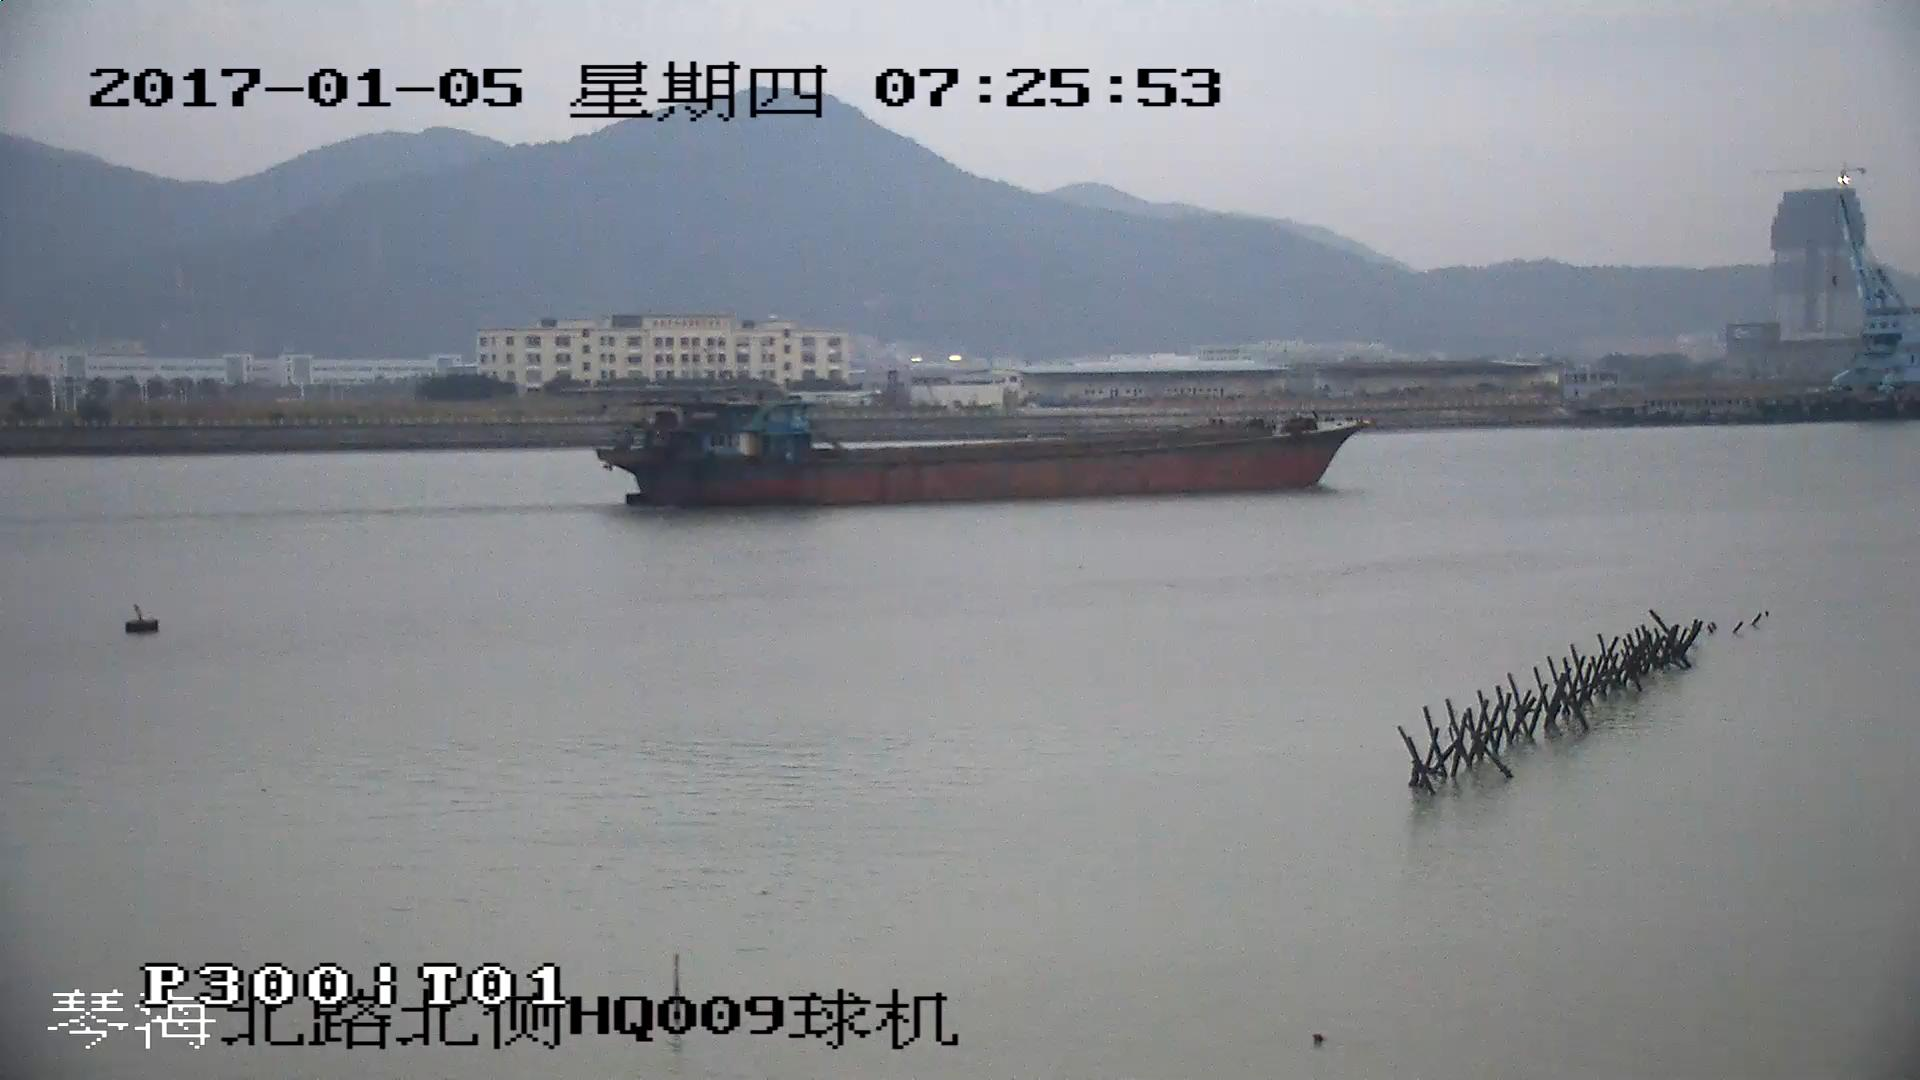bulk cargo carrier: (604, 407, 1372, 511)
